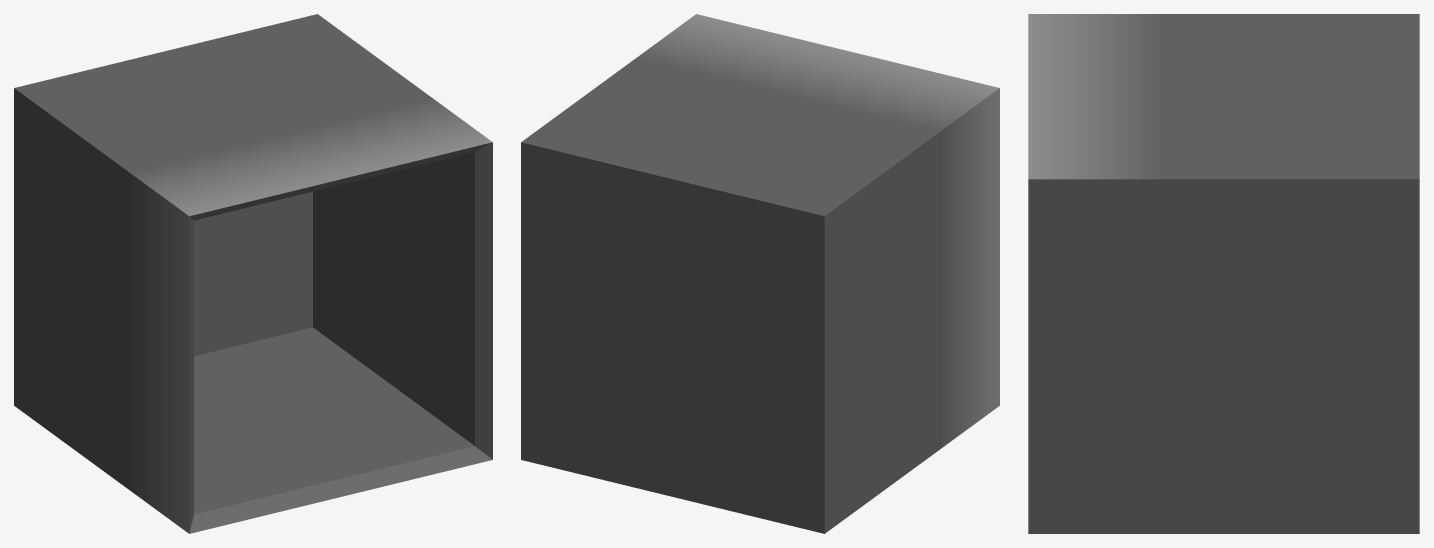
Rendered from FloorDemoReel1.fbx.
3 views of the same model, side by side, from view 1: azimuth 30°, elevation 25°; view 2: azimuth 150°, elevation 25°; view 3: azimuth 270°, elevation 25° (orthographic). The views are drawn at different scales.
Visible parts, largest first — view 1: Cube; view 2: Cube; view 3: Cube.
Boxes of the visible parts, box(x1,y1,x2,y2) form: Cube: box(14, 14, 492, 533); Cube: box(521, 14, 999, 533); Cube: box(1028, 14, 1419, 533).
Bounding box in the file's own units: 1080 × 1080 × 1080.
Materials: 1 (1 with a texture image).
